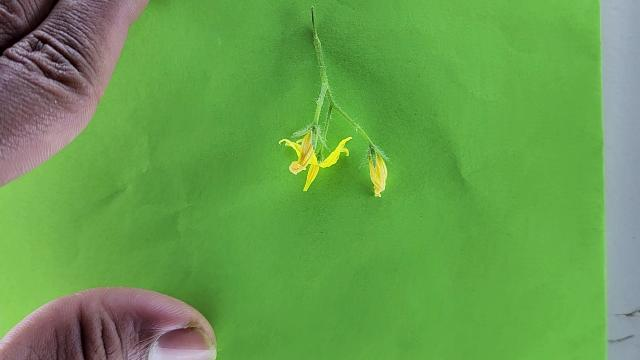Anthesis: (279, 132, 351, 193), (367, 148, 389, 199)
